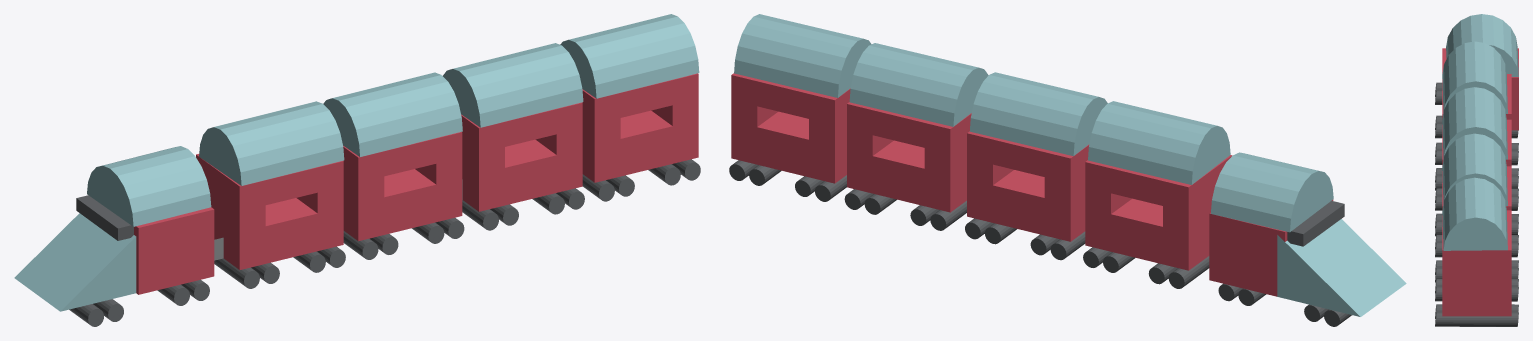
The model's file is Spectacular Luulia.glb.
3 renders of one model, left to right at view 1: azimuth 30°, elevation 25°; view 2: azimuth 150°, elevation 25°; view 3: azimuth 270°, elevation 25°, orthographic. The views are drawn at different scales.
Visible parts, largest first — view 1: Mesh_Mesh_head_geo.001_lambert2SG.001; view 2: Mesh_Mesh_head_geo.001_lambert2SG.001; view 3: Mesh_Mesh_head_geo.001_lambert2SG.001.
Part boxes in pixels (x1,y1,x2,y2): Mesh_Mesh_head_geo.001_lambert2SG.001: (14,14,700,326); Mesh_Mesh_head_geo.001_lambert2SG.001: (729,14,1406,326); Mesh_Mesh_head_geo.001_lambert2SG.001: (1435,14,1518,326).
Bounding box in the file's own units: 160 × 34.35 × 23.
